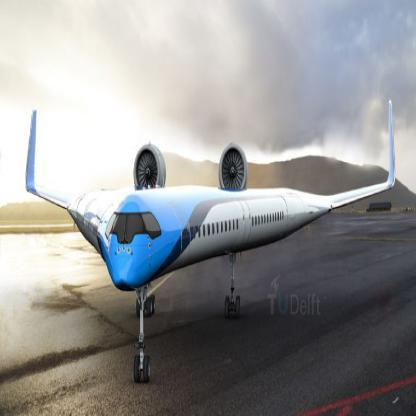CIV_Plane: (20, 90, 398, 384)
